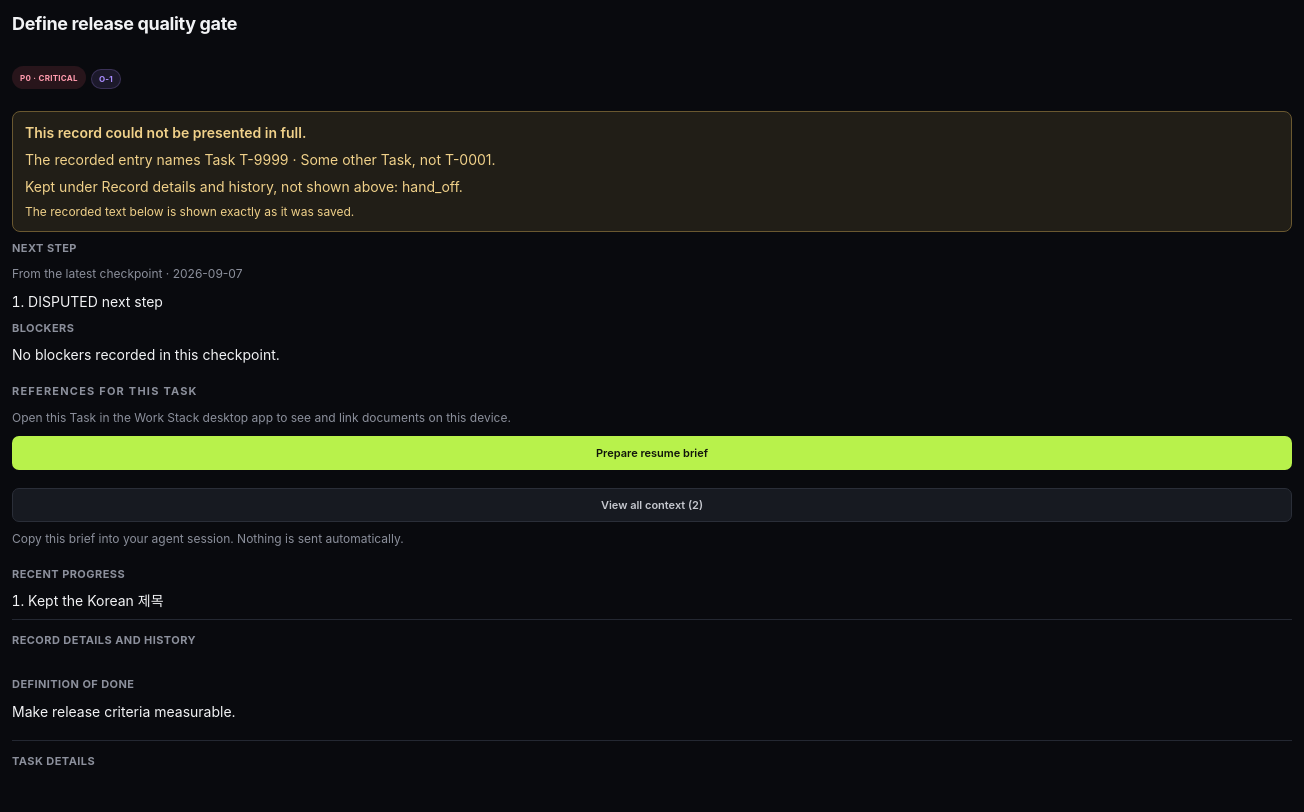
it: a partly readable record is not dressed up as an ordinary one
The image size is (1304, 812).
Check: the message shows "This record could not be presented in full.", box [25,124,306,141]
Check: the message shows "The recorded entry names Task T-9999 · Some other Task, not T-0001.", box [25,151,496,168]
Click the heading "Record details and history".
click(104, 640)  # box [12,633,196,647]
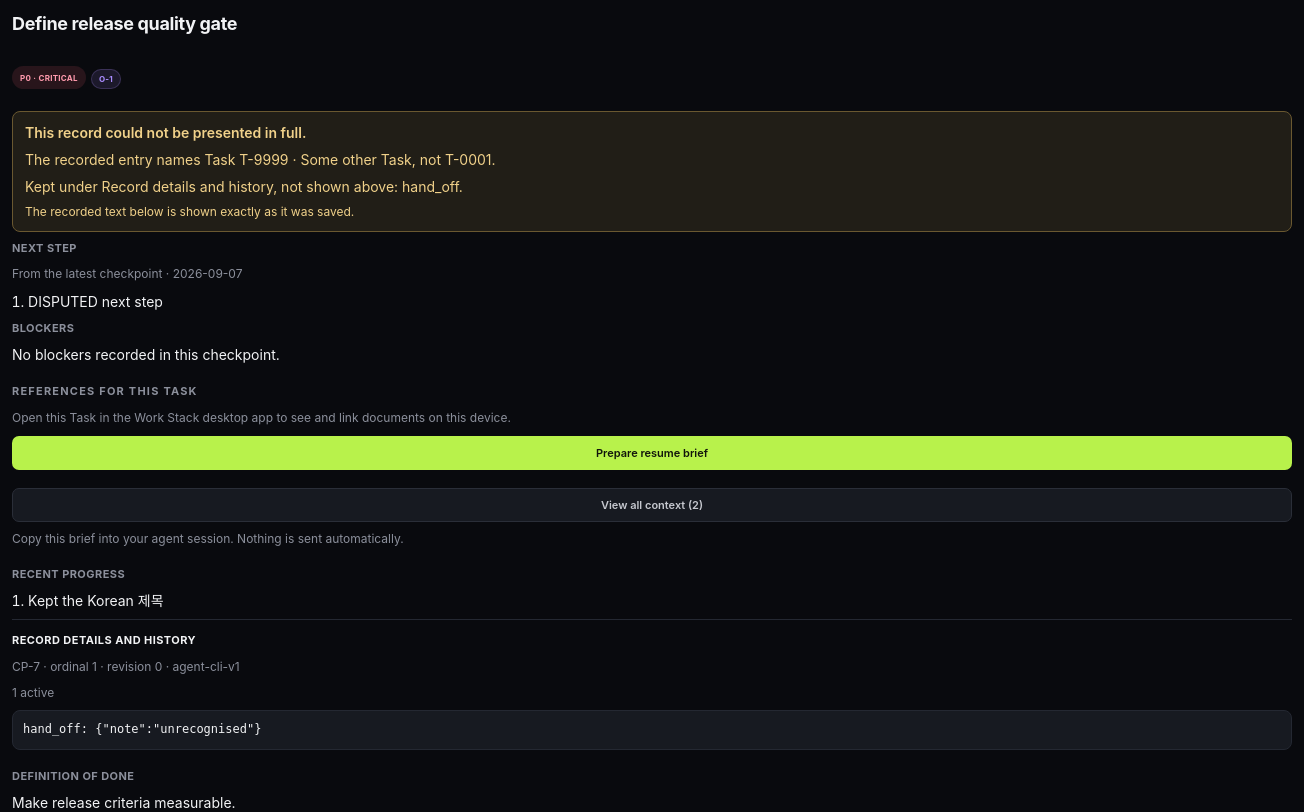
Check: the text "hand_off: {\"note\":\"unrecognised\"}" is shown, box [12,710,1292,750]
